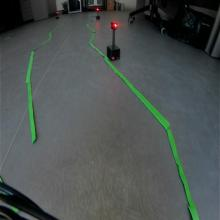red: (110, 21, 118, 30)
